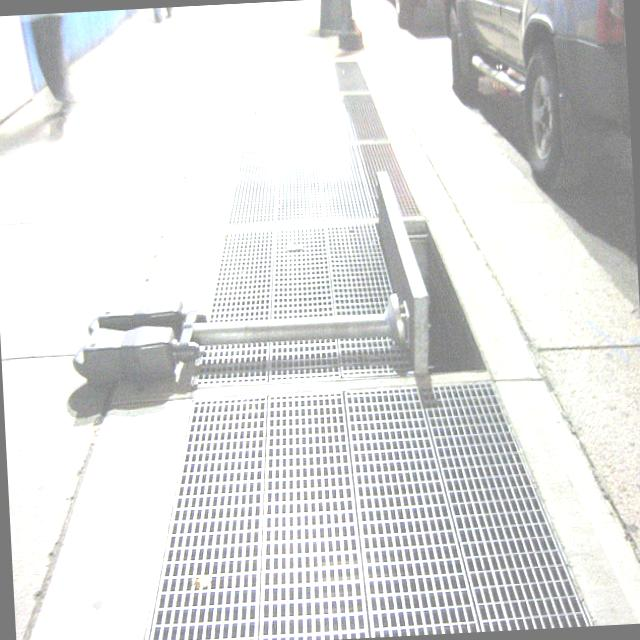Vehicle: (447, 0, 633, 194)
